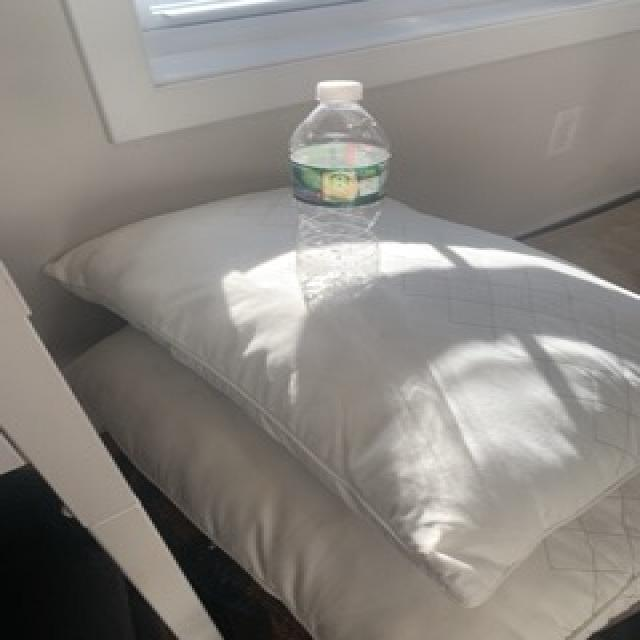water_bottle: (284, 75, 392, 312)
